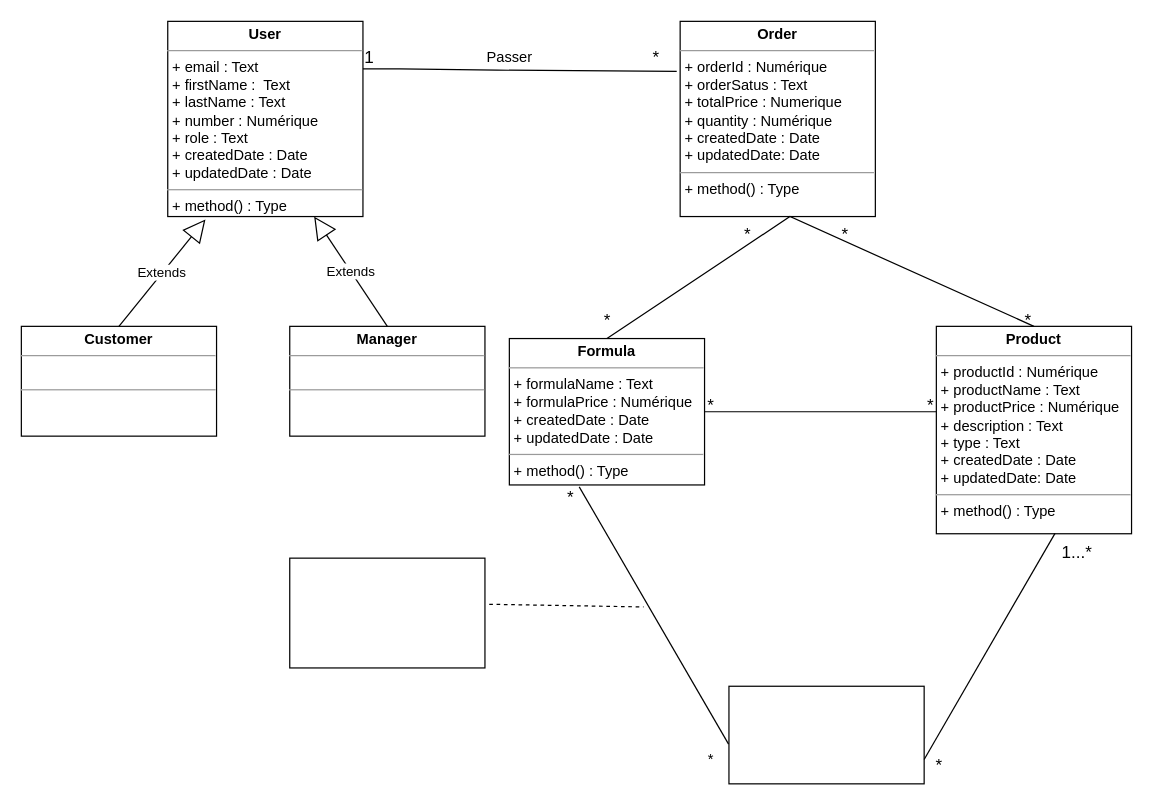
Image size: 1153x805. Some labels were removed from this diagram. The centre of each missing label's shape, as x and y in pixels:
Classe + status : Text + method() : Type: [387,612]
DailyMenu + jour : Numérique: [826,734]
